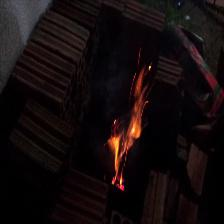fire: (109, 61, 149, 196)
